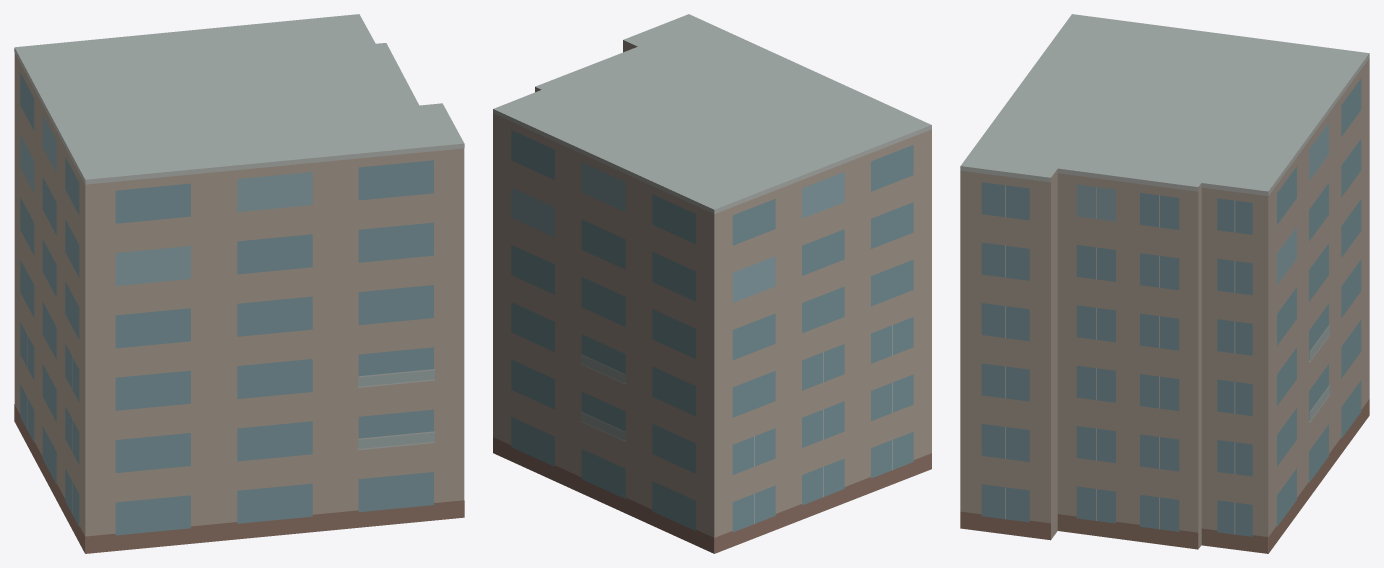
Rendered from survey-upis-32725910.glb.
The picture shows the model from 3 angles, left to right: view 1: azimuth 30°, elevation 25°; view 2: azimuth 150°, elevation 25°; view 3: azimuth 270°, elevation 25°; orthographic projection. The views are drawn at different scales.
Parts seen in each view (by area): view 1: survey-upis-32725910.tmp; view 2: survey-upis-32725910.tmp; view 3: survey-upis-32725910.tmp.
Boxes of the visible parts, bbox=[...] form: survey-upis-32725910.tmp: bbox=[14, 14, 464, 553]; survey-upis-32725910.tmp: bbox=[493, 14, 931, 553]; survey-upis-32725910.tmp: bbox=[960, 14, 1369, 553].
Size of the model in its own units: 20.02 by 19.05 by 19.5.
